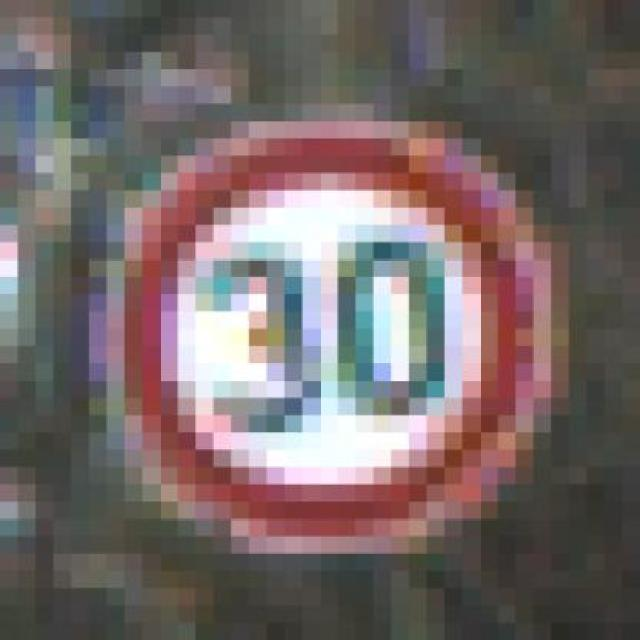Speed Limit 30 KMPh: (89, 86, 569, 554)
